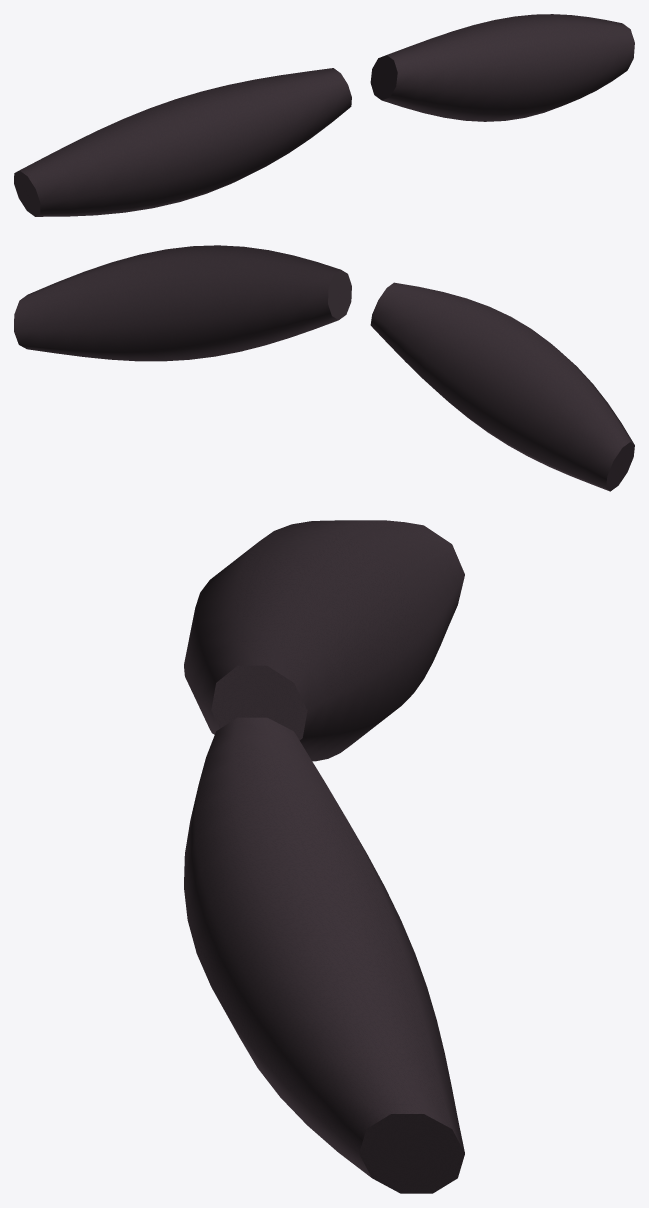
The model's file is facial_chevron_default.gltf.
3 renders of one model, top to bottom at view 1: azimuth 30°, elevation 25°; view 2: azimuth 150°, elevation 25°; view 3: azimuth 270°, elevation 25°, orthographic. The views are drawn at different scales.
Parts seen in each view (by area): view 1: Chevron Moustache default; view 2: Chevron Moustache default; view 3: Chevron Moustache default.
Boxes of the visible parts, <box> form: Chevron Moustache default: <box>14,14,634,216</box>; Chevron Moustache default: <box>14,245,634,491</box>; Chevron Moustache default: <box>184,520,464,1193</box>.
Bounding box in the file's own units: 0.1911 × 0.0339 × 0.0386.
Materials: 1 (1 with a texture image).
